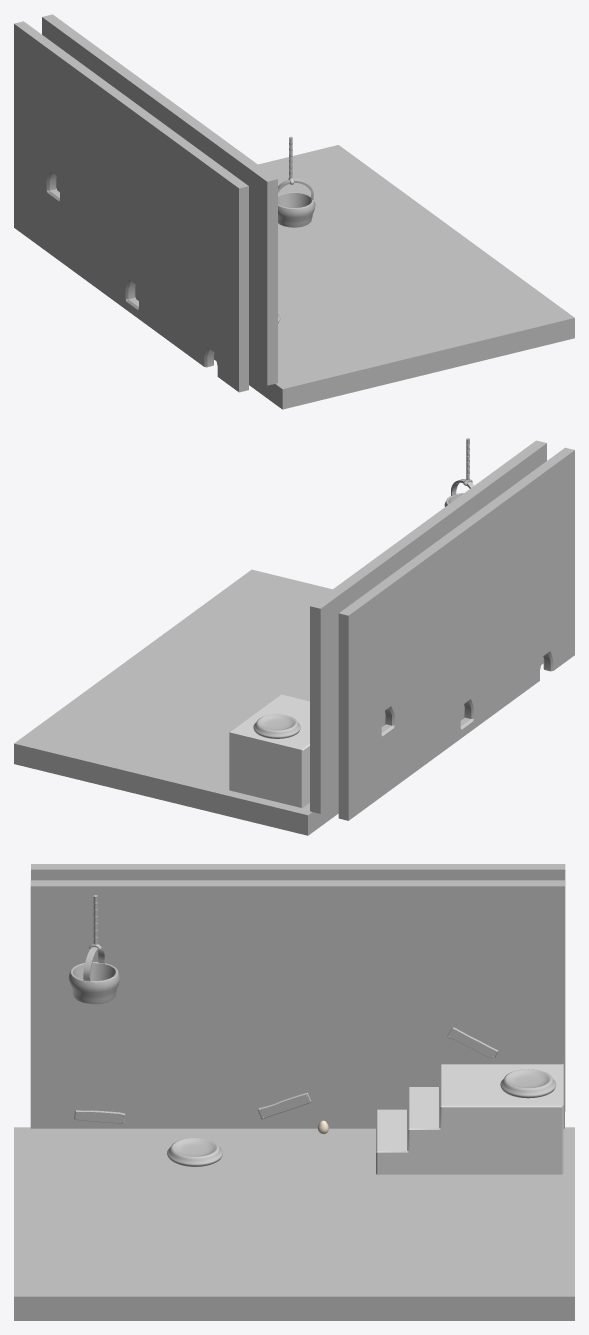
Rendered from chickenAssets.FBX.
3 views of the same model, one above another, from view 1: azimuth 30°, elevation 25°; view 2: azimuth 150°, elevation 25°; view 3: azimuth 270°, elevation 25° (orthographic). The views are drawn at different scales.
Parts seen in each view (by area): view 1: Box002, Box006, Box007, Cylinder001; view 2: Box002, Box006, Box007, Box001, Cylinder002; view 3: Box007, Box006, Box001, Box002, Cylinder001, Cylinder003, Cylinder002, Box003, Box005, Box004.
Boxes of the visible parts, x1,y1,x2,y2 form: Box002: (14,21,248,392); Box006: (135,145,574,409); Box007: (42,14,277,385); Cylinder001: (278,178,315,227); Box002: (338,447,574,820); Box006: (14,569,543,835); Box007: (310,440,546,813); Box001: (229,694,309,807); Cylinder002: (253,714,300,738); Box007: (30,880,564,1128); Box006: (14,1127,574,1320); Box001: (376,1064,563,1174); Box002: (31,864,565,1111); Cylinder001: (68,946,119,1004); Cylinder003: (167,1137,222,1166); Cylinder002: (500,1069,556,1098); Box003: (257,1092,311,1119); Box005: (447,1027,498,1058); Box004: (74,1110,125,1123).
Bounding box in the file's own units: 337 × 232 × 420.
